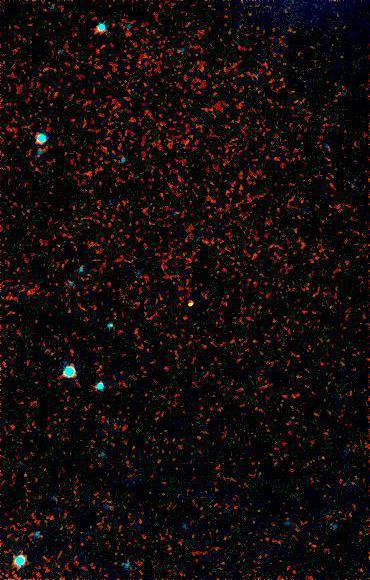star: (174, 290, 204, 320)
